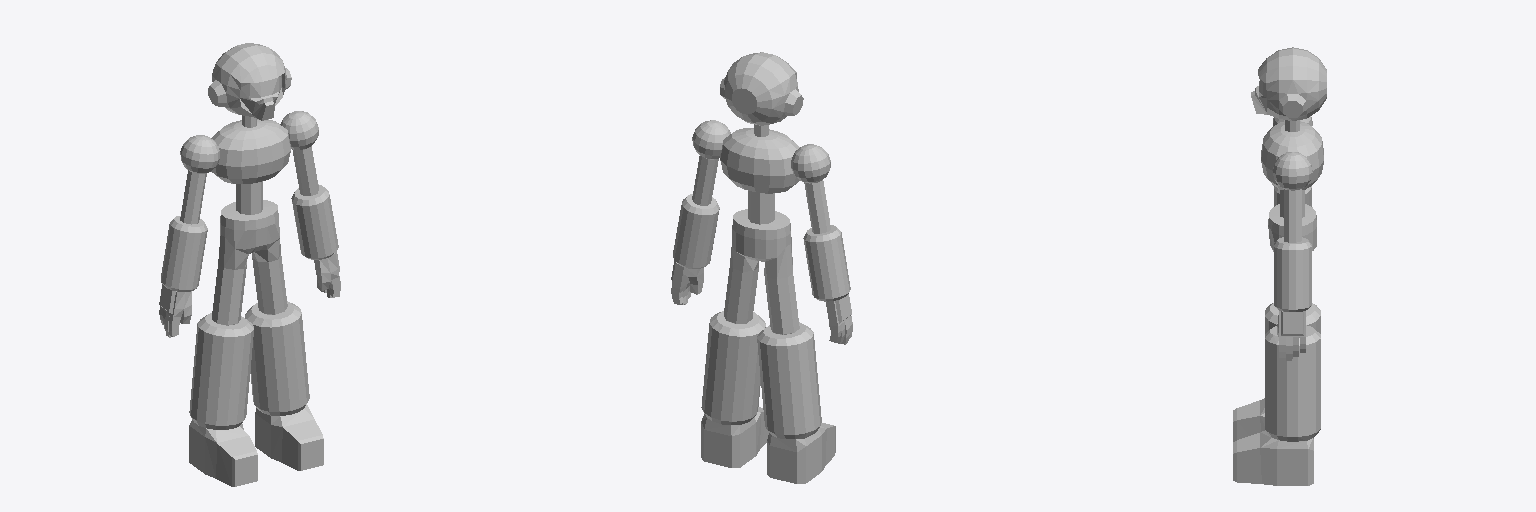
Rendered from Net Navi.obj.
3 views of the same model, side by side, from view 1: azimuth 30°, elevation 25°; view 2: azimuth 150°, elevation 25°; view 3: azimuth 270°, elevation 25° (orthographic).
Visible parts, largest first — view 1: right lower leg, left lower leg, hip, lower arm, head, chest, shoulder, hand, upper arm, waist; view 2: right lower leg, left lower leg, hip, lower arm, head, chest, shoulder, hand, upper arm, waist; view 3: left lower leg, head, lower arm, chest, right lower leg, shoulder, hand, hip, upper arm.
Part boxes in pixels (left/top/right/bottom): right lower leg: left=189, top=313, right=257, bottom=486; left lower leg: left=245, top=301, right=323, bottom=470; hip: left=212, top=200, right=287, bottom=325; lower arm: left=161, top=184, right=338, bottom=291; head: left=208, top=43, right=291, bottom=120; chest: left=211, top=119, right=290, bottom=183; shoulder: left=180, top=111, right=318, bottom=173; hand: left=159, top=251, right=340, bottom=337; upper arm: left=180, top=146, right=318, bottom=224; waist: left=236, top=181, right=262, bottom=214; right lower leg: left=757, top=322, right=835, bottom=483; left lower leg: left=701, top=311, right=768, bottom=467; hip: left=724, top=209, right=799, bottom=334; lower arm: left=673, top=194, right=850, bottom=301; head: left=720, top=52, right=803, bottom=125; chest: left=720, top=128, right=799, bottom=193; shoulder: left=692, top=120, right=830, bottom=183; hand: left=671, top=260, right=852, bottom=344; upper arm: left=692, top=156, right=830, bottom=233; waist: left=748, top=191, right=774, bottom=224; left lower leg: left=1233, top=325, right=1320, bottom=485; head: left=1251, top=47, right=1326, bottom=120; lower arm: left=1274, top=186, right=1311, bottom=311; chest: left=1261, top=121, right=1323, bottom=189; right lower leg: left=1233, top=303, right=1320, bottom=441; shoulder: left=1273, top=116, right=1312, bottom=190; hand: left=1277, top=311, right=1305, bottom=360; hip: left=1268, top=204, right=1316, bottom=251; upper arm: left=1284, top=189, right=1301, bottom=242.
Size of the model in its own units: 1.38 by 3.12 by 0.6493.